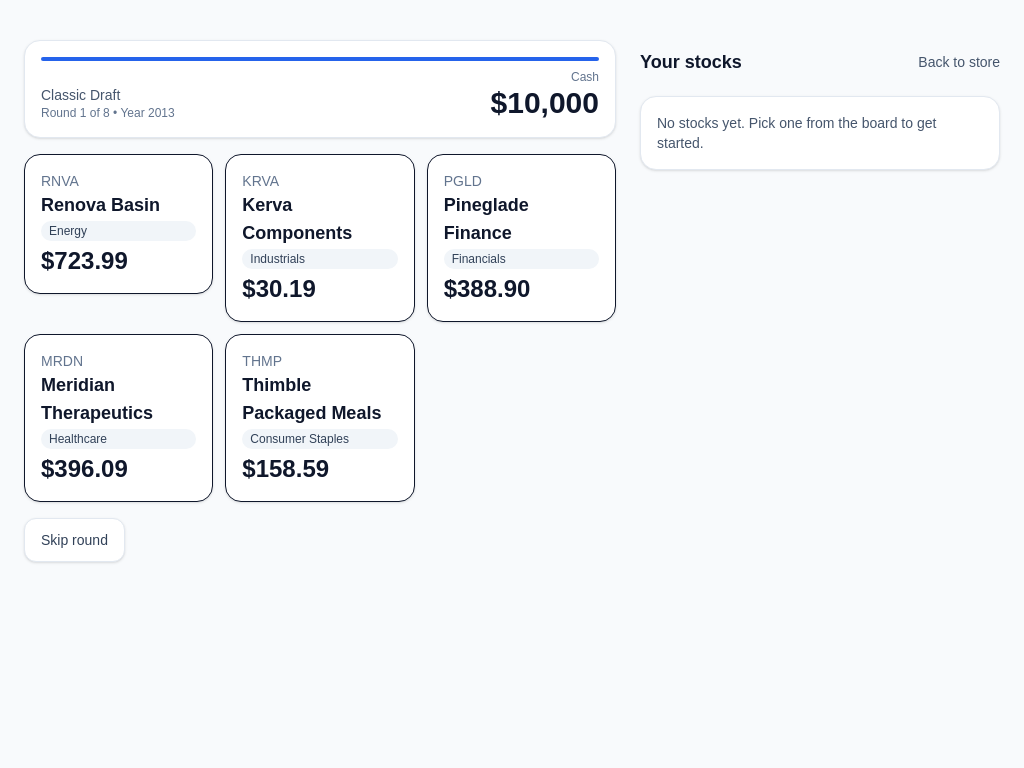
Scenario: PlayGame › skipping advances to the next round
This screenshot has width=1024, height=768.
Click the button "Skip round" at (74, 540), box top-left (24, 518), bottom-right (125, 562)
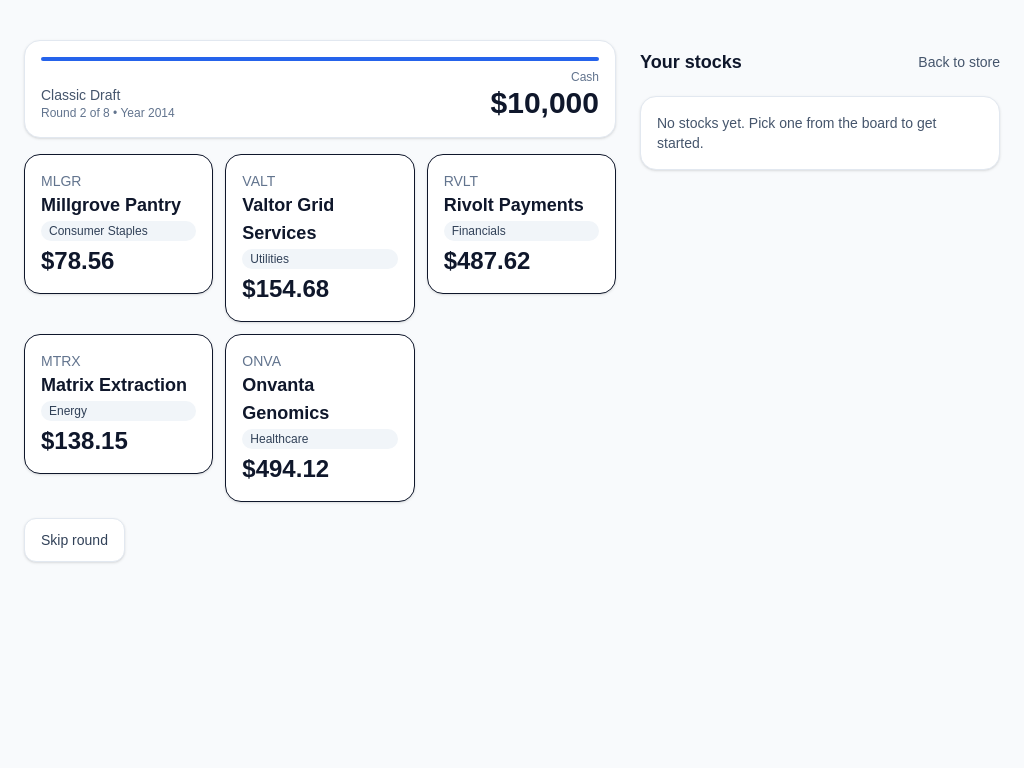
Expected: the text "Round 2 of 8 • Year 2014" is shown, top-left (41, 105), bottom-right (175, 121)
